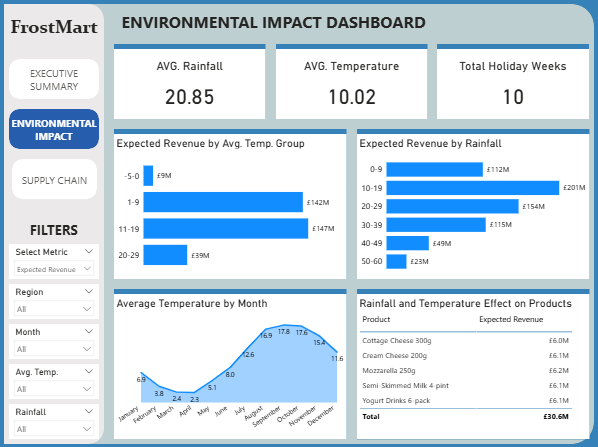

Layout of this report page (visuals, bound fields, positions):
{"tool":"powerbi","page":{"name":"2","canvas":[1200,900],"ordinal":1},"visuals":[{"type":"shape","box":[10,10,1180,880],"z":0},{"type":"shape","box":[10,10,200,880],"z":1000},{"type":"textbox","box":[240,20,650,50],"z":2000},{"type":"actionButton","box":[20,120,180,80],"z":3000},{"type":"actionButton","box":[20,220,180,80],"z":4000},{"type":"actionButton","box":[25,320,170,80],"z":5000},{"type":"shape","box":[230,90,303,150],"z":6000},{"type":"card","title":"AVG. Rainfall","fields":{"Values":["Avg(dim_weather.Rainfall)"]},"box":[230,100,303,140],"z":7000},{"type":"shape","box":[553,90,303,150],"z":8000},{"type":"card","title":"AVG. Temperature","fields":{"Values":["Avg(dim_weather.Avg_Temperature)"]},"box":[553,100,303,140],"z":9000},{"type":"shape","box":[876,90,304,150],"z":10000},{"type":"card","title":"Total Holiday Weeks","fields":{"Values":["dim_weather.Total Holiday Weeks"]},"box":[876,100,304,140],"z":11000},{"type":"shape","box":[230,260,465,300],"z":12000},{"type":"barChart","fields":{"Y":["fact_sales.Expected Revenue"],"Category":["dim_weather.Avg. Temp. Group"]},"box":[230.4,270,465,290],"z":13000},{"type":"shape","box":[715,260,465,300],"z":14000},{"type":"barChart","fields":{"Y":["fact_sales.Expected Revenue"],"Category":["dim_weather.Rainfall Group"]},"box":[715,270,465,290],"z":15000},{"type":"slicer","fields":{"Values":["Selected Metric.Selected Metric"]},"box":[20,490,180,70],"z":16000},{"type":"textbox","box":[10,30,200,50],"z":17000},{"type":"textbox","box":[10,440,200,40],"z":18000},{"type":"slicer","fields":{"Values":["dim_weather.Region"]},"box":[20,570,180,70.2],"z":19000},{"type":"shape","box":[230.4,580,465,300],"z":20000},{"type":"shape","box":[715,580,465,300.6],"z":21000},{"type":"slicer","fields":{"Values":["fact_sales.Month"]},"box":[20,650,180,70],"z":22000},{"type":"slicer","fields":{"Values":["dim_weather.Avg. Temp. Group"]},"box":[20,730,180,70],"z":23000},{"type":"slicer","fields":{"Values":["dim_weather.Rainfall Group"]},"box":[20,810,180,70],"z":24000},{"type":"tableEx","title":"Rainfall and Temperature Effect on Products","fields":{"Values":["dim_product.Product_Name","fact_sales.Expected Revenue"]},"box":[715,590.4,465,290],"z":25000},{"type":"areaChart","fields":{"Category":["fact_sales.Month"],"Y":["Avg(dim_weather.Avg_Temperature)"]},"box":[230,590,465,290],"z":26000}]}

Visuals, with their boxes in screenshot pixels (x1, y1, x2, y2), scaled from the page's 1200x900 canvas onto the 598x447 screenshot:
shape: crop(5, 5, 593, 442)
shape: crop(5, 5, 105, 442)
textbox: crop(120, 10, 444, 35)
actionButton: crop(10, 60, 100, 99)
actionButton: crop(10, 109, 100, 149)
actionButton: crop(12, 159, 97, 199)
shape: crop(115, 45, 266, 119)
"AVG. Rainfall" card: crop(115, 50, 266, 119)
shape: crop(276, 45, 427, 119)
"AVG. Temperature" card: crop(276, 50, 427, 119)
shape: crop(437, 45, 588, 119)
"Total Holiday Weeks" card: crop(437, 50, 588, 119)
shape: crop(115, 129, 346, 278)
barChart - fact_sales.Expected Revenue x dim_weather.Avg. Temp. Group: crop(115, 134, 347, 278)
shape: crop(356, 129, 588, 278)
barChart - fact_sales.Expected Revenue x dim_weather.Rainfall Group: crop(356, 134, 588, 278)
slicer - Selected Metric.Selected Metric: crop(10, 243, 100, 278)
textbox: crop(5, 15, 105, 40)
textbox: crop(5, 219, 105, 238)
slicer - dim_weather.Region: crop(10, 283, 100, 318)
shape: crop(115, 288, 347, 437)
shape: crop(356, 288, 588, 437)
slicer - fact_sales.Month: crop(10, 323, 100, 358)
slicer - dim_weather.Avg. Temp. Group: crop(10, 363, 100, 397)
slicer - dim_weather.Rainfall Group: crop(10, 402, 100, 437)
"Rainfall and Temperature Effect on Products" tableEx: crop(356, 293, 588, 437)
areaChart - fact_sales.Month x Avg(dim_weather.Avg_Temperature): crop(115, 293, 346, 437)
